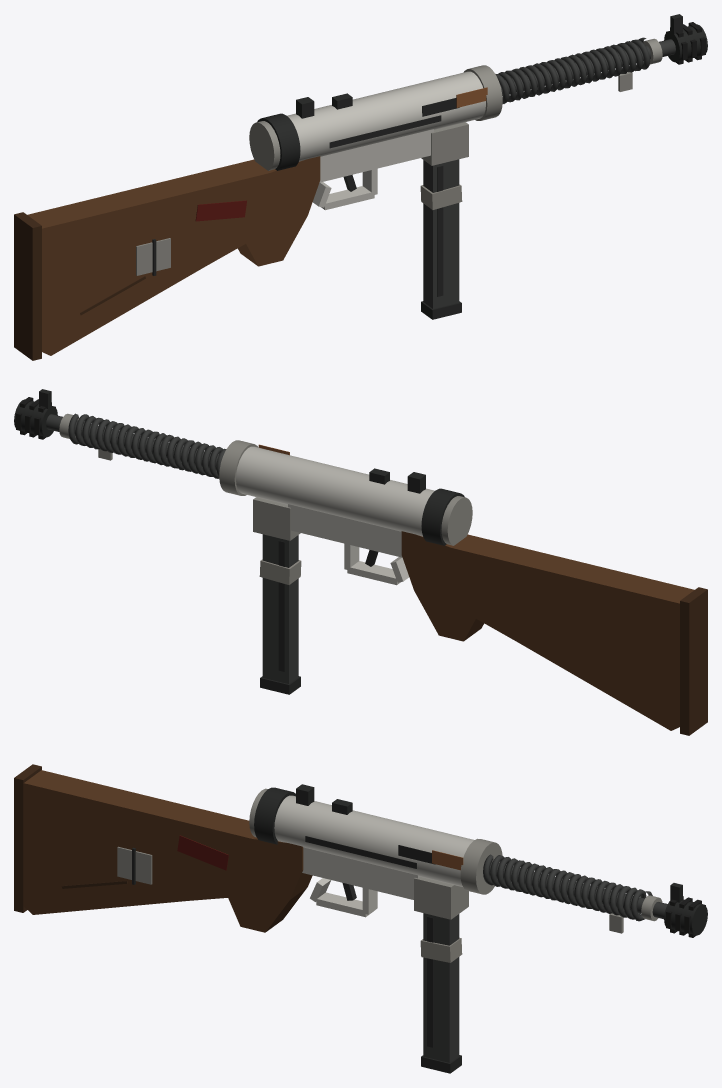
File: subfusil.glb
3 views of the same model, one above another, from view 1: azimuth 30°, elevation 25°; view 2: azimuth 150°, elevation 25°; view 3: azimuth 330°, elevation 25° (orthographic).
Visible parts, largest first — view 1: culata, cajon_tubular, camisa_espiral, cargador_m, cantonera, caja_gatillo, brocal_cargador, tapa_trasera, tapa_trasera_aro, collar_delantero, placa_culata, mancha_sangre (+6 smaller); view 2: culata, cajon_tubular, camisa_espiral, cargador_m, cantonera, caja_gatillo, brocal_cargador, tapa_trasera, tapa_trasera_aro, collar_delantero, nervio_cargador, canon (+3 smaller); view 3: culata, cajon_tubular, camisa_espiral, cargador_m, caja_gatillo, brocal_cargador, cantonera, collar_delantero, tapa_trasera, placa_culata, bocacha, mancha_sangre (+5 smaller).
Boxes of the visible parts, x1,y1,x2,y2 form: culata: [27, 156, 320, 355]; cajon_tubular: [287, 71, 485, 161]; camisa_espiral: [495, 37, 650, 103]; cargador_m: [423, 159, 459, 308]; cantonera: [14, 212, 41, 360]; caja_gatillo: [319, 129, 433, 182]; brocal_cargador: [421, 122, 468, 165]; tapa_trasera: [257, 113, 300, 170]; tapa_trasera_aro: [249, 121, 280, 170]; collar_delantero: [463, 65, 502, 120]; placa_culata: [136, 238, 170, 275]; mancha_sangre: [195, 200, 246, 221]; culata: [401, 531, 694, 730]; cajon_tubular: [236, 446, 434, 536]; camisa_espiral: [68, 413, 226, 478]; cargador_m: [262, 534, 298, 683]; cantonera: [680, 587, 707, 735]; caja_gatillo: [288, 504, 402, 557]; brocal_cargador: [253, 497, 300, 540]; tapa_trasera: [421, 488, 464, 545]; tapa_trasera_aro: [441, 496, 472, 545]; collar_delantero: [219, 440, 258, 495]; nervio_cargador: [278, 541, 284, 671]; canon: [46, 414, 218, 470]; culata: [23, 770, 312, 932]; cajon_tubular: [274, 795, 474, 886]; camisa_espiral: [483, 854, 652, 921]; cargador_m: [423, 913, 459, 1062]; caja_gatillo: [302, 847, 419, 899]; brocal_cargador: [414, 876, 468, 919]; cantonera: [14, 764, 41, 912]; collar_delantero: [460, 838, 502, 894]; tapa_trasera: [254, 787, 295, 844]; placa_culata: [117, 846, 152, 884]; bocacha: [664, 899, 707, 935]; mancha_sangre: [177, 835, 228, 870].
Size of the model in its own units: 2.19 by 0.755 by 0.156.
